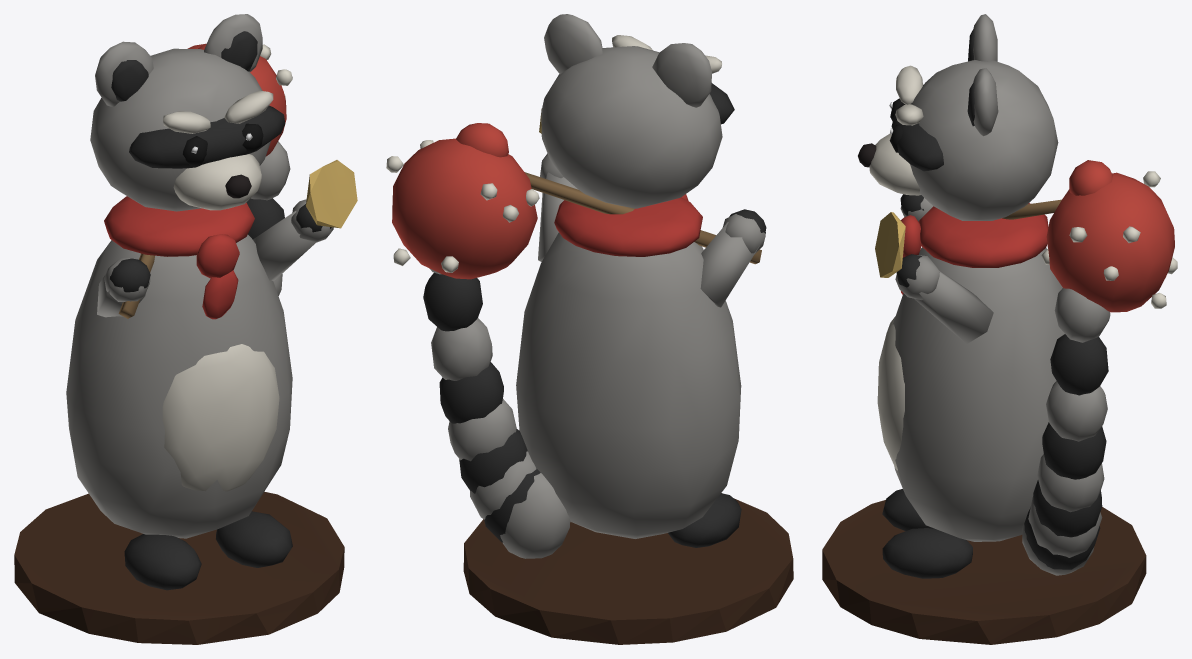
File: bandit.glb
3 renders of one model, left to right at view 1: azimuth 30°, elevation 25°; view 2: azimuth 150°, elevation 25°; view 3: azimuth 270°, elevation 25°, orthographic. The views are drawn at different scales.
Visible parts, largest first — view 1: Bandit; view 2: Bandit; view 3: Bandit.
Boxes of the visible parts, x1,y1,x2,y2 form: Bandit: (14, 14, 357, 644); Bandit: (386, 14, 793, 644); Bandit: (822, 14, 1177, 644).
Size of the model in its own units: 0.6031 by 1 by 0.6071.
